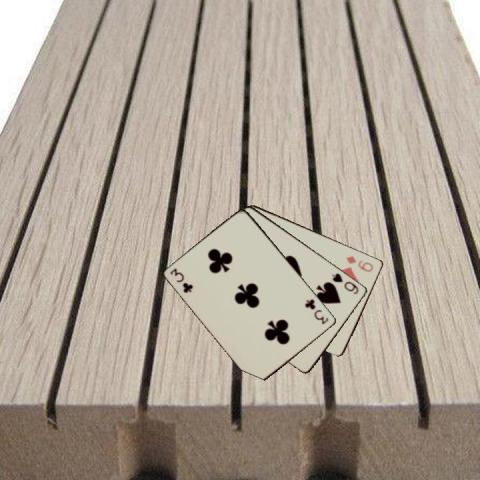3c: (302, 296, 330, 325), (167, 265, 194, 295)
6s: (329, 270, 360, 296)
9d: (343, 253, 375, 273)
